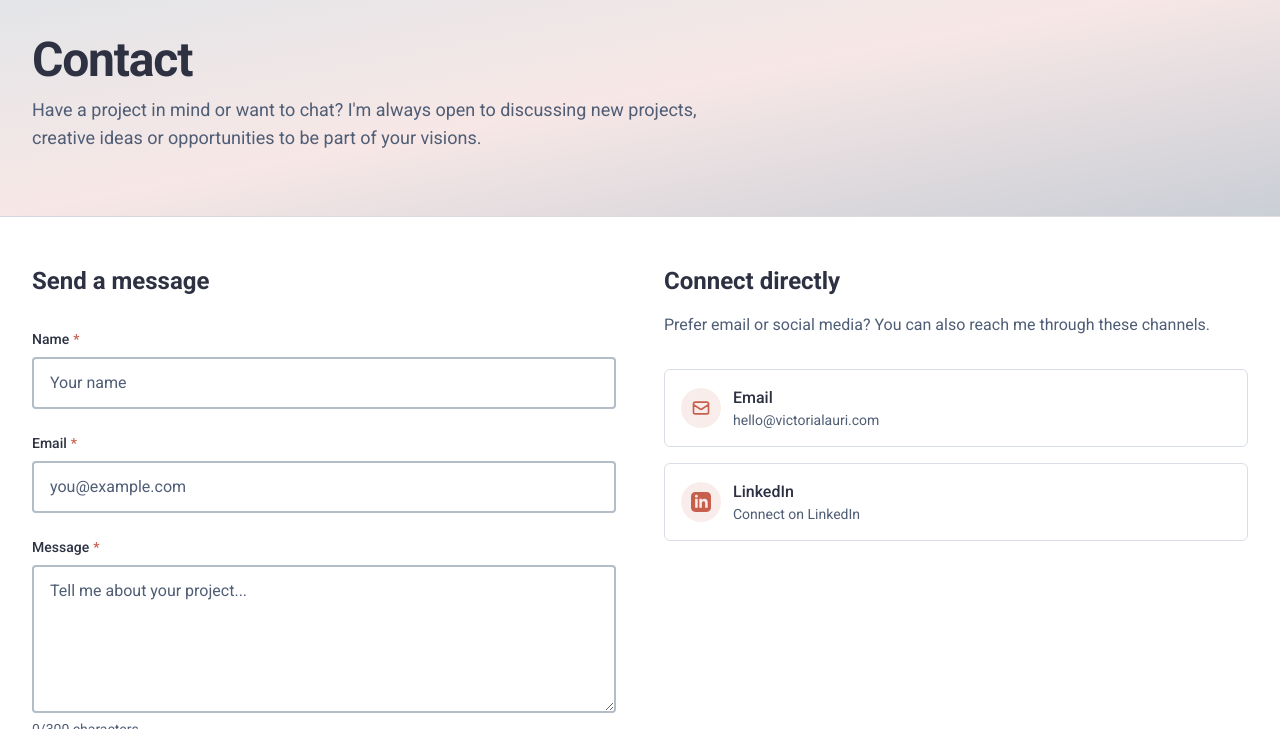
Test case: ContactPage Form Validation › validates minimum name length
Type "A" into the field labelled "Name*" at (324, 383), box [32,357,616,409]
(page scrolled)
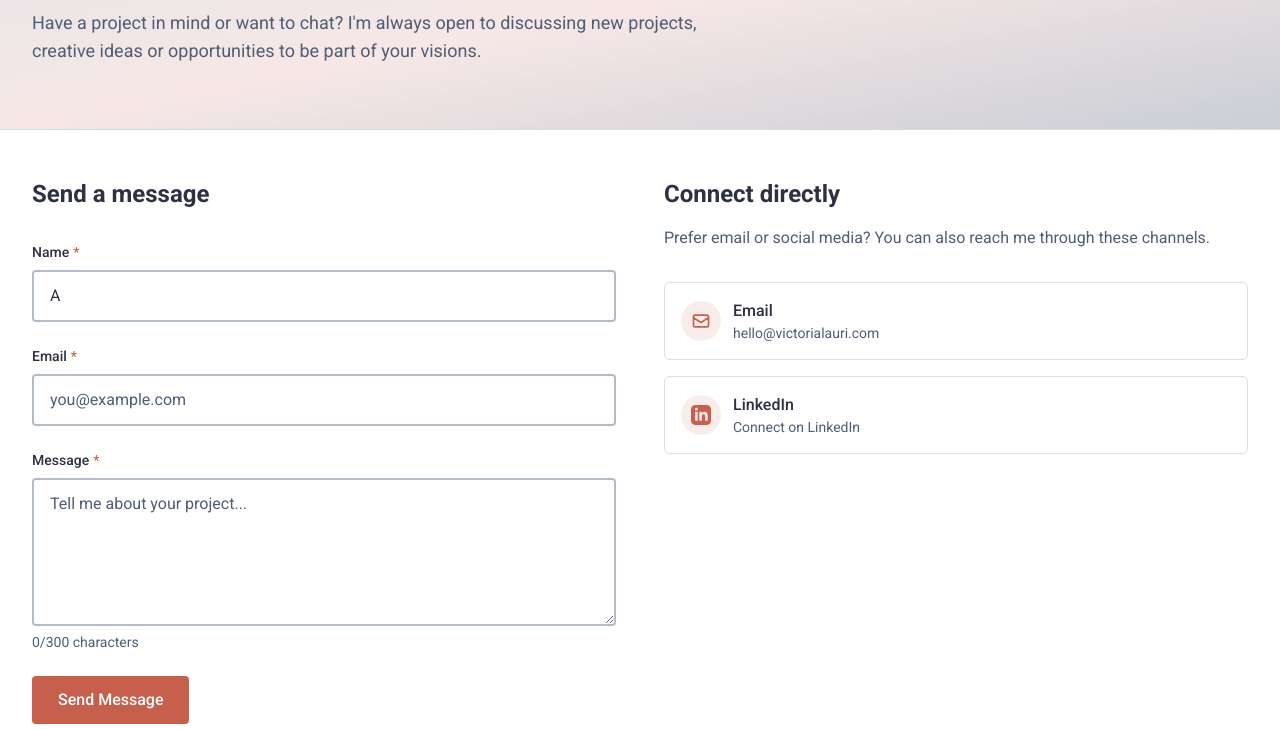
Click the button "Send Message" at (111, 700), box [32,676,190,724]
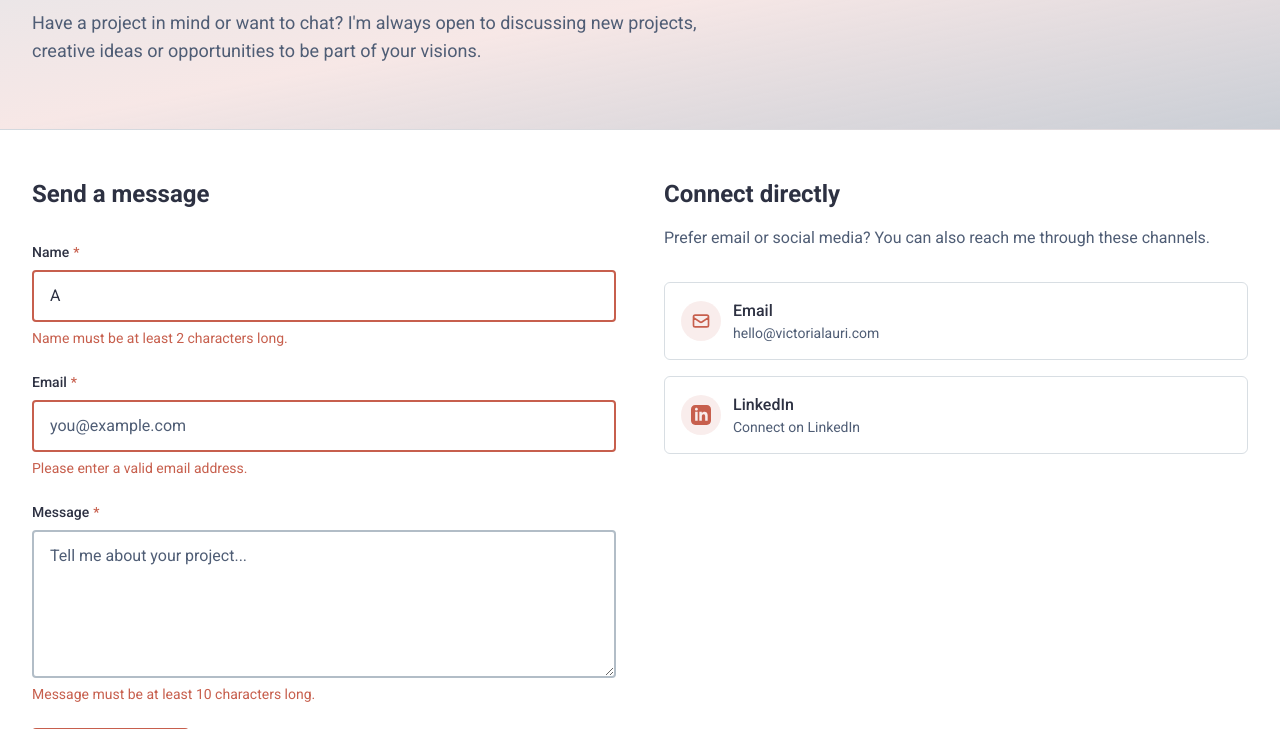
Result: the text "Name must be at least 2 characters long." is shown at [32,330,288,346]
